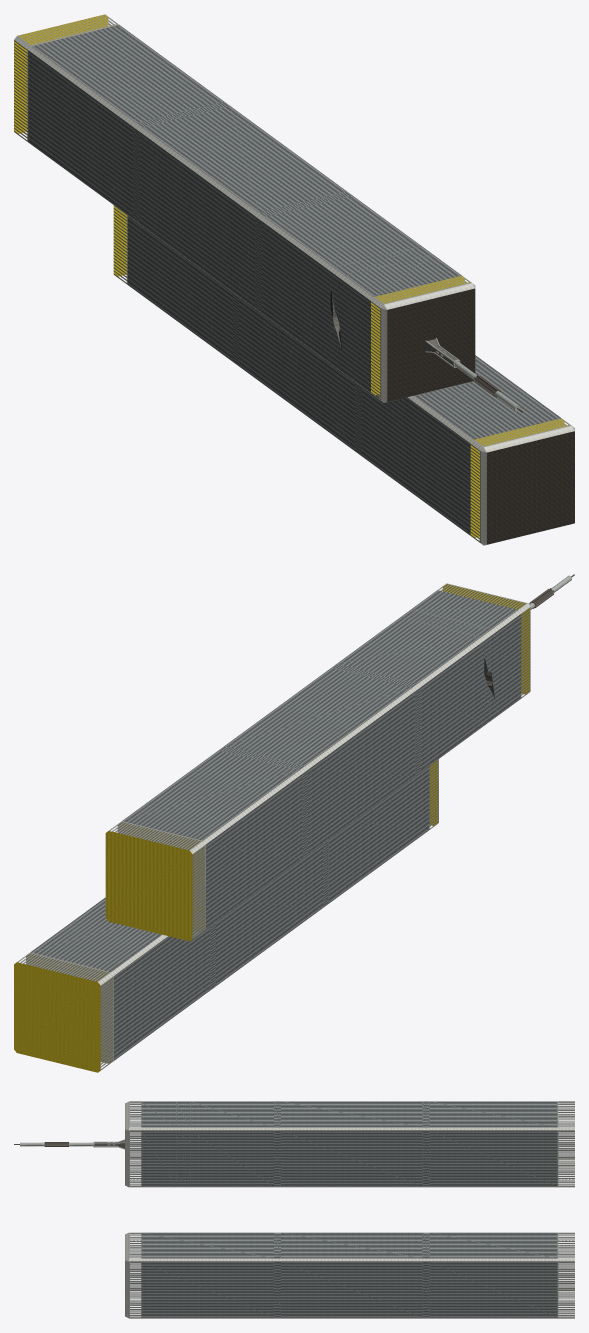
The model's file is wtc_ep1.obj.
The picture shows the model from 3 angles, top to bottom: view 1: azimuth 30°, elevation 25°; view 2: azimuth 150°, elevation 25°; view 3: azimuth 270°, elevation 25°; orthographic projection. The views are drawn at different scales.
Parts seen in each view (by area): view 1: 1777, 1779, 389, 1773, 391, 90, 1765, 393, 1775, 1781, 407, 1782 (+4 smaller); view 2: 1777, 1779, 393, 1773, 1781, 395, 391, 389, 1775, 1782, 1813, 1776 (+4 smaller); view 3: 391, 1777, 389, 393, 1779, 1773, 1775, 395, 1781, 407, 1782, 392 (+5 smaller).
Boxes of the visible parts, <box> form: 1777: <box>139,106,346,309</box>; 1779: <box>28,25,224,219</box>; 389: <box>361,355,564,537</box>; 1773: <box>261,195,420,364</box>; 391: <box>239,297,356,452</box>; 90: <box>487,431,574,544</box>; 1765: <box>387,288,475,401</box>; 393: <box>128,216,234,363</box>; 1775: <box>342,254,464,395</box>; 1781: <box>14,14,117,141</box>; 407: <box>470,418,569,542</box>; 1782: <box>371,275,470,399</box>; 1777: <box>224,668,415,854</box>; 1779: <box>122,750,302,930</box>; 393: <box>30,897,210,1061</box>; 1773: <box>337,617,484,772</box>; 1781: <box>105,822,204,941</box>; 395: <box>14,953,112,1072</box>; 391: <box>216,844,323,985</box>; 389: <box>328,766,429,903</box>; 1775: <box>411,590,521,717</box>; 1782: <box>438,584,529,698</box>; 1813: <box>400,609,494,658</box>; 1776: <box>331,664,420,776</box>; 391: <box>281,1232,422,1318</box>; 1777: <box>281,1101,422,1187</box>; 389: <box>141,1232,273,1318</box>; 393: <box>429,1232,557,1318</box>; 1779: <box>429,1101,557,1187</box>; 1773: <box>190,1101,273,1187</box>; 1775: <box>141,1101,176,1187</box>; 395: <box>559,1232,574,1318</box>; 1781: <box>559,1101,574,1187</box>; 407: <box>130,1232,141,1318</box>; 1782: <box>130,1101,141,1187</box>; 392: <box>422,1232,429,1318</box>.
Size of the model in its own units: 4977 by 6515 by 20526.
12 materials, 12 textured.
